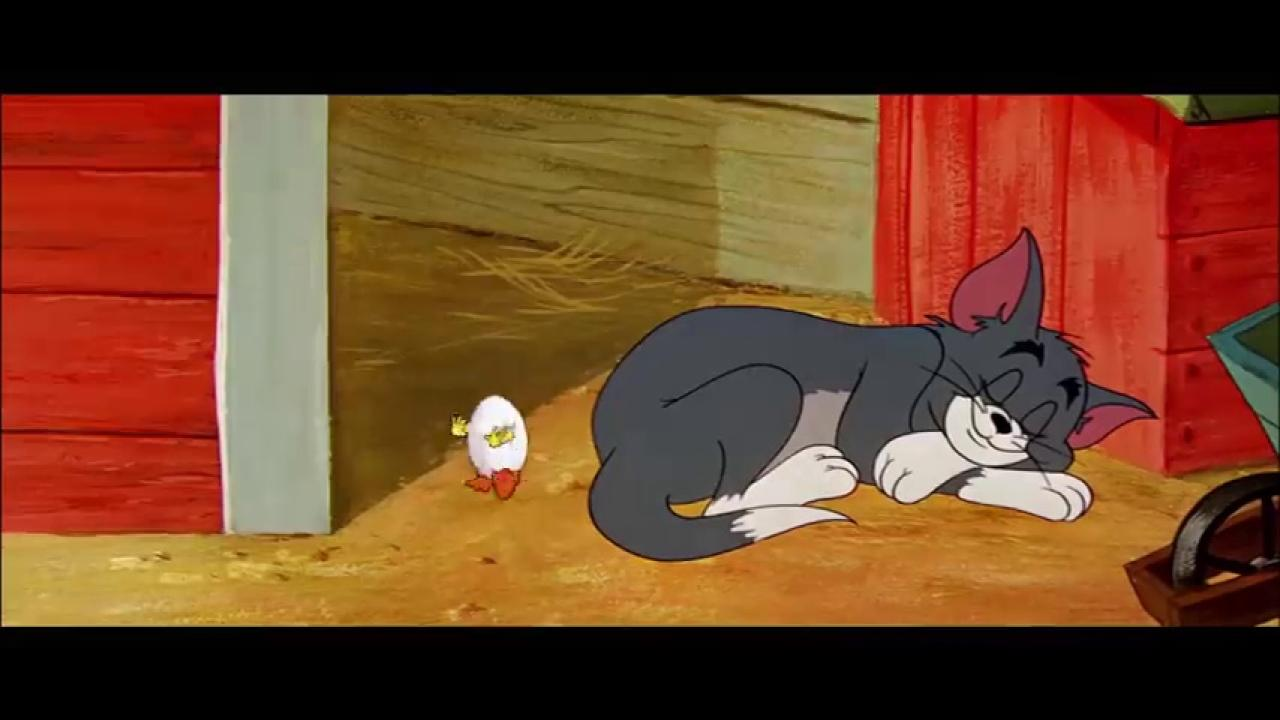Tom: (585, 224, 1163, 563)
